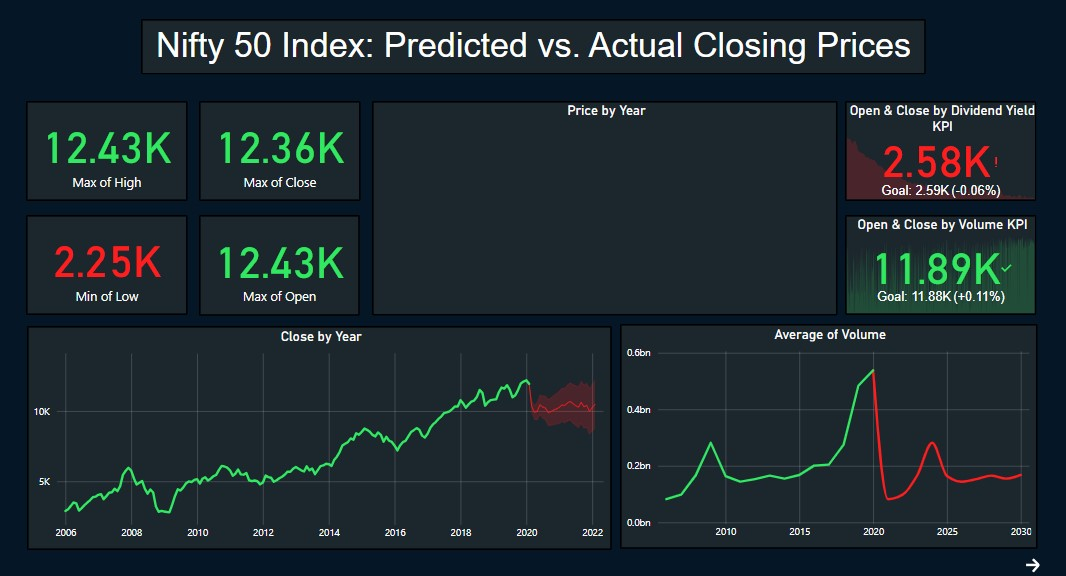

Layout of this report page (visuals, bound fields, positions):
{"tool":"powerbi","page":{"name":"Page 1","canvas":[1280,720],"ordinal":0},"visuals":[{"type":"lineChart","title":"Close by Year","fields":{"Category":["Nifty50_Index_data.Date.Variation.Date Hierarchy.Year","Nifty50_Index_data.Date.Variation.Date Hierarchy.Quarter","Nifty50_Index_data.Date.Variation.Date Hierarchy.Month"],"Y":["Avg(Nifty50_Index_data.Close)"]},"box":[5.7,407.1,731.4,280],"z":0},{"type":"lineChart","title":"Average of Volume","fields":{"Category":["Nifty50_Index_data.Date.Variation.Date Hierarchy.Year","Nifty50_Index_data.Date.Variation.Date Hierarchy.Quarter","Nifty50_Index_data.Date.Variation.Date Hierarchy.Month"],"Y":["Avg(Nifty50_Index_data.Volume)"]},"box":[747,405.5,521.6,280.8],"z":1000},{"type":"PBI_CV_886A053E_9DFD_4EA0_A47D_CCAEB89AF969","title":"Price by Year","fields":{"Category":["Nifty50_Index_data.Date.Variation.Date Hierarchy.Year","Nifty50_Index_data.Date.Variation.Date Hierarchy.Month"],"open":["Min(Nifty50_Index_data.Open)"],"close":["Max(Nifty50_Index_data.Close)"],"high":["Max(Nifty50_Index_data.High)"],"low":["Min(Nifty50_Index_data.Low)"]},"box":[437.3,126.1,582.2,268.4],"z":2000},{"type":"kpi","title":"Open & Close by Dividend Yield KPI","fields":{"Indicator":["Min(Nifty50_Index_data.Open)"],"Goal":["Max(Nifty50_Index_data.High)"],"TrendLine":["Nifty50_Index_data.dividend_yield"]},"box":[1029.1,126.1,239.5,125.2],"z":3000},{"type":"kpi","title":"Open & Close by Volume KPI","fields":{"Indicator":["Avg(Nifty50_Index_data.Open)"],"Goal":["Avg(Nifty50_Index_data.Close)"],"TrendLine":["Nifty50_Index_data.Volume"]},"box":[1029.1,269.2,239.5,125.2],"z":4000},{"type":"card","fields":{"Values":["Max(Nifty50_Index_data.Close)"]},"box":[221.2,126.1,202.3,125.2],"z":5000},{"type":"card","fields":{"Values":["Max(Nifty50_Index_data.Open)"]},"box":[221.4,268.6,201.4,125.7],"z":6000},{"type":"card","fields":{"Values":["Max(Nifty50_Index_data.High)"]},"box":[5.1,126.1,202.3,125.2],"z":7000},{"type":"card","fields":{"Values":["Min(Nifty50_Index_data.Low)"]},"box":[5.1,269.2,202.3,125.2],"z":8000},{"type":"actionButton","box":[1249.6,694.4,30.5,25.6],"z":9000},{"type":"textbox","box":[148.6,24.3,981.4,68.6],"z":10000}]}

Visuals, with their boxes on the page's 1280x720 design canvas (x1, y1, x2, y2). These are canvas units, not pixel positions in the 1066x576 screenshot, which may show the page scaled, cropped or inside an application window:
"Close by Year" lineChart: rect(6, 407, 737, 687)
"Average of Volume" lineChart: rect(747, 406, 1269, 686)
"Price by Year" PBI_CV_886A053E_9DFD_4EA0_A47D_CCAEB89AF969: rect(437, 126, 1020, 394)
"Open & Close by Dividend Yield KPI" kpi: rect(1029, 126, 1269, 251)
"Open & Close by Volume KPI" kpi: rect(1029, 269, 1269, 394)
card - Max(Nifty50_Index_data.Close): rect(221, 126, 424, 251)
card - Max(Nifty50_Index_data.Open): rect(221, 269, 423, 394)
card - Max(Nifty50_Index_data.High): rect(5, 126, 207, 251)
card - Min(Nifty50_Index_data.Low): rect(5, 269, 207, 394)
actionButton: rect(1250, 694, 1280, 720)
textbox: rect(149, 24, 1130, 93)
